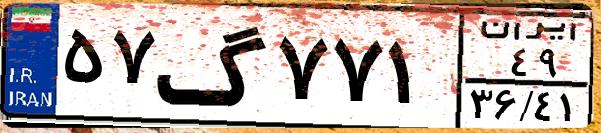1: (385, 28, 445, 110), (560, 70, 590, 125)
3: (470, 70, 495, 125)
4: (508, 27, 537, 80), (535, 70, 560, 125)
5: (57, 26, 110, 100)
6: (495, 70, 520, 125)
7: (270, 28, 330, 110), (330, 28, 385, 110), (110, 28, 156, 98)
9: (537, 27, 568, 80)
گ: (156, 12, 270, 120)
